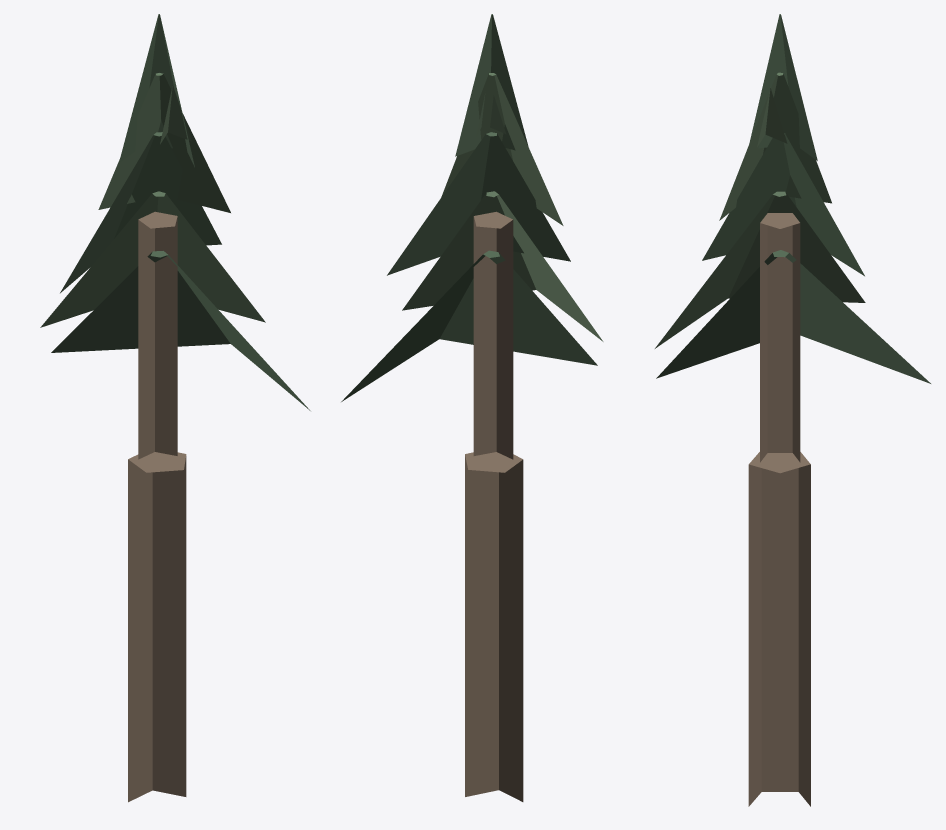
The model's file is tree.temp.scots_pine__autumn.glb.
3 views of the same model, side by side, from view 1: azimuth 30°, elevation 25°; view 2: azimuth 150°, elevation 25°; view 3: azimuth 270°, elevation 25° (orthographic).
Parts seen in each view (by area): view 1: tree.temp.scots_pine__autumn; view 2: tree.temp.scots_pine__autumn; view 3: tree.temp.scots_pine__autumn.
Part boxes in pixels (<box>): tree.temp.scots_pine__autumn: <box>40,14,310,802</box>; tree.temp.scots_pine__autumn: <box>341,14,603,801</box>; tree.temp.scots_pine__autumn: <box>655,14,930,806</box>.
Size of the model in its own units: 6.51 by 19.56 by 6.24.
